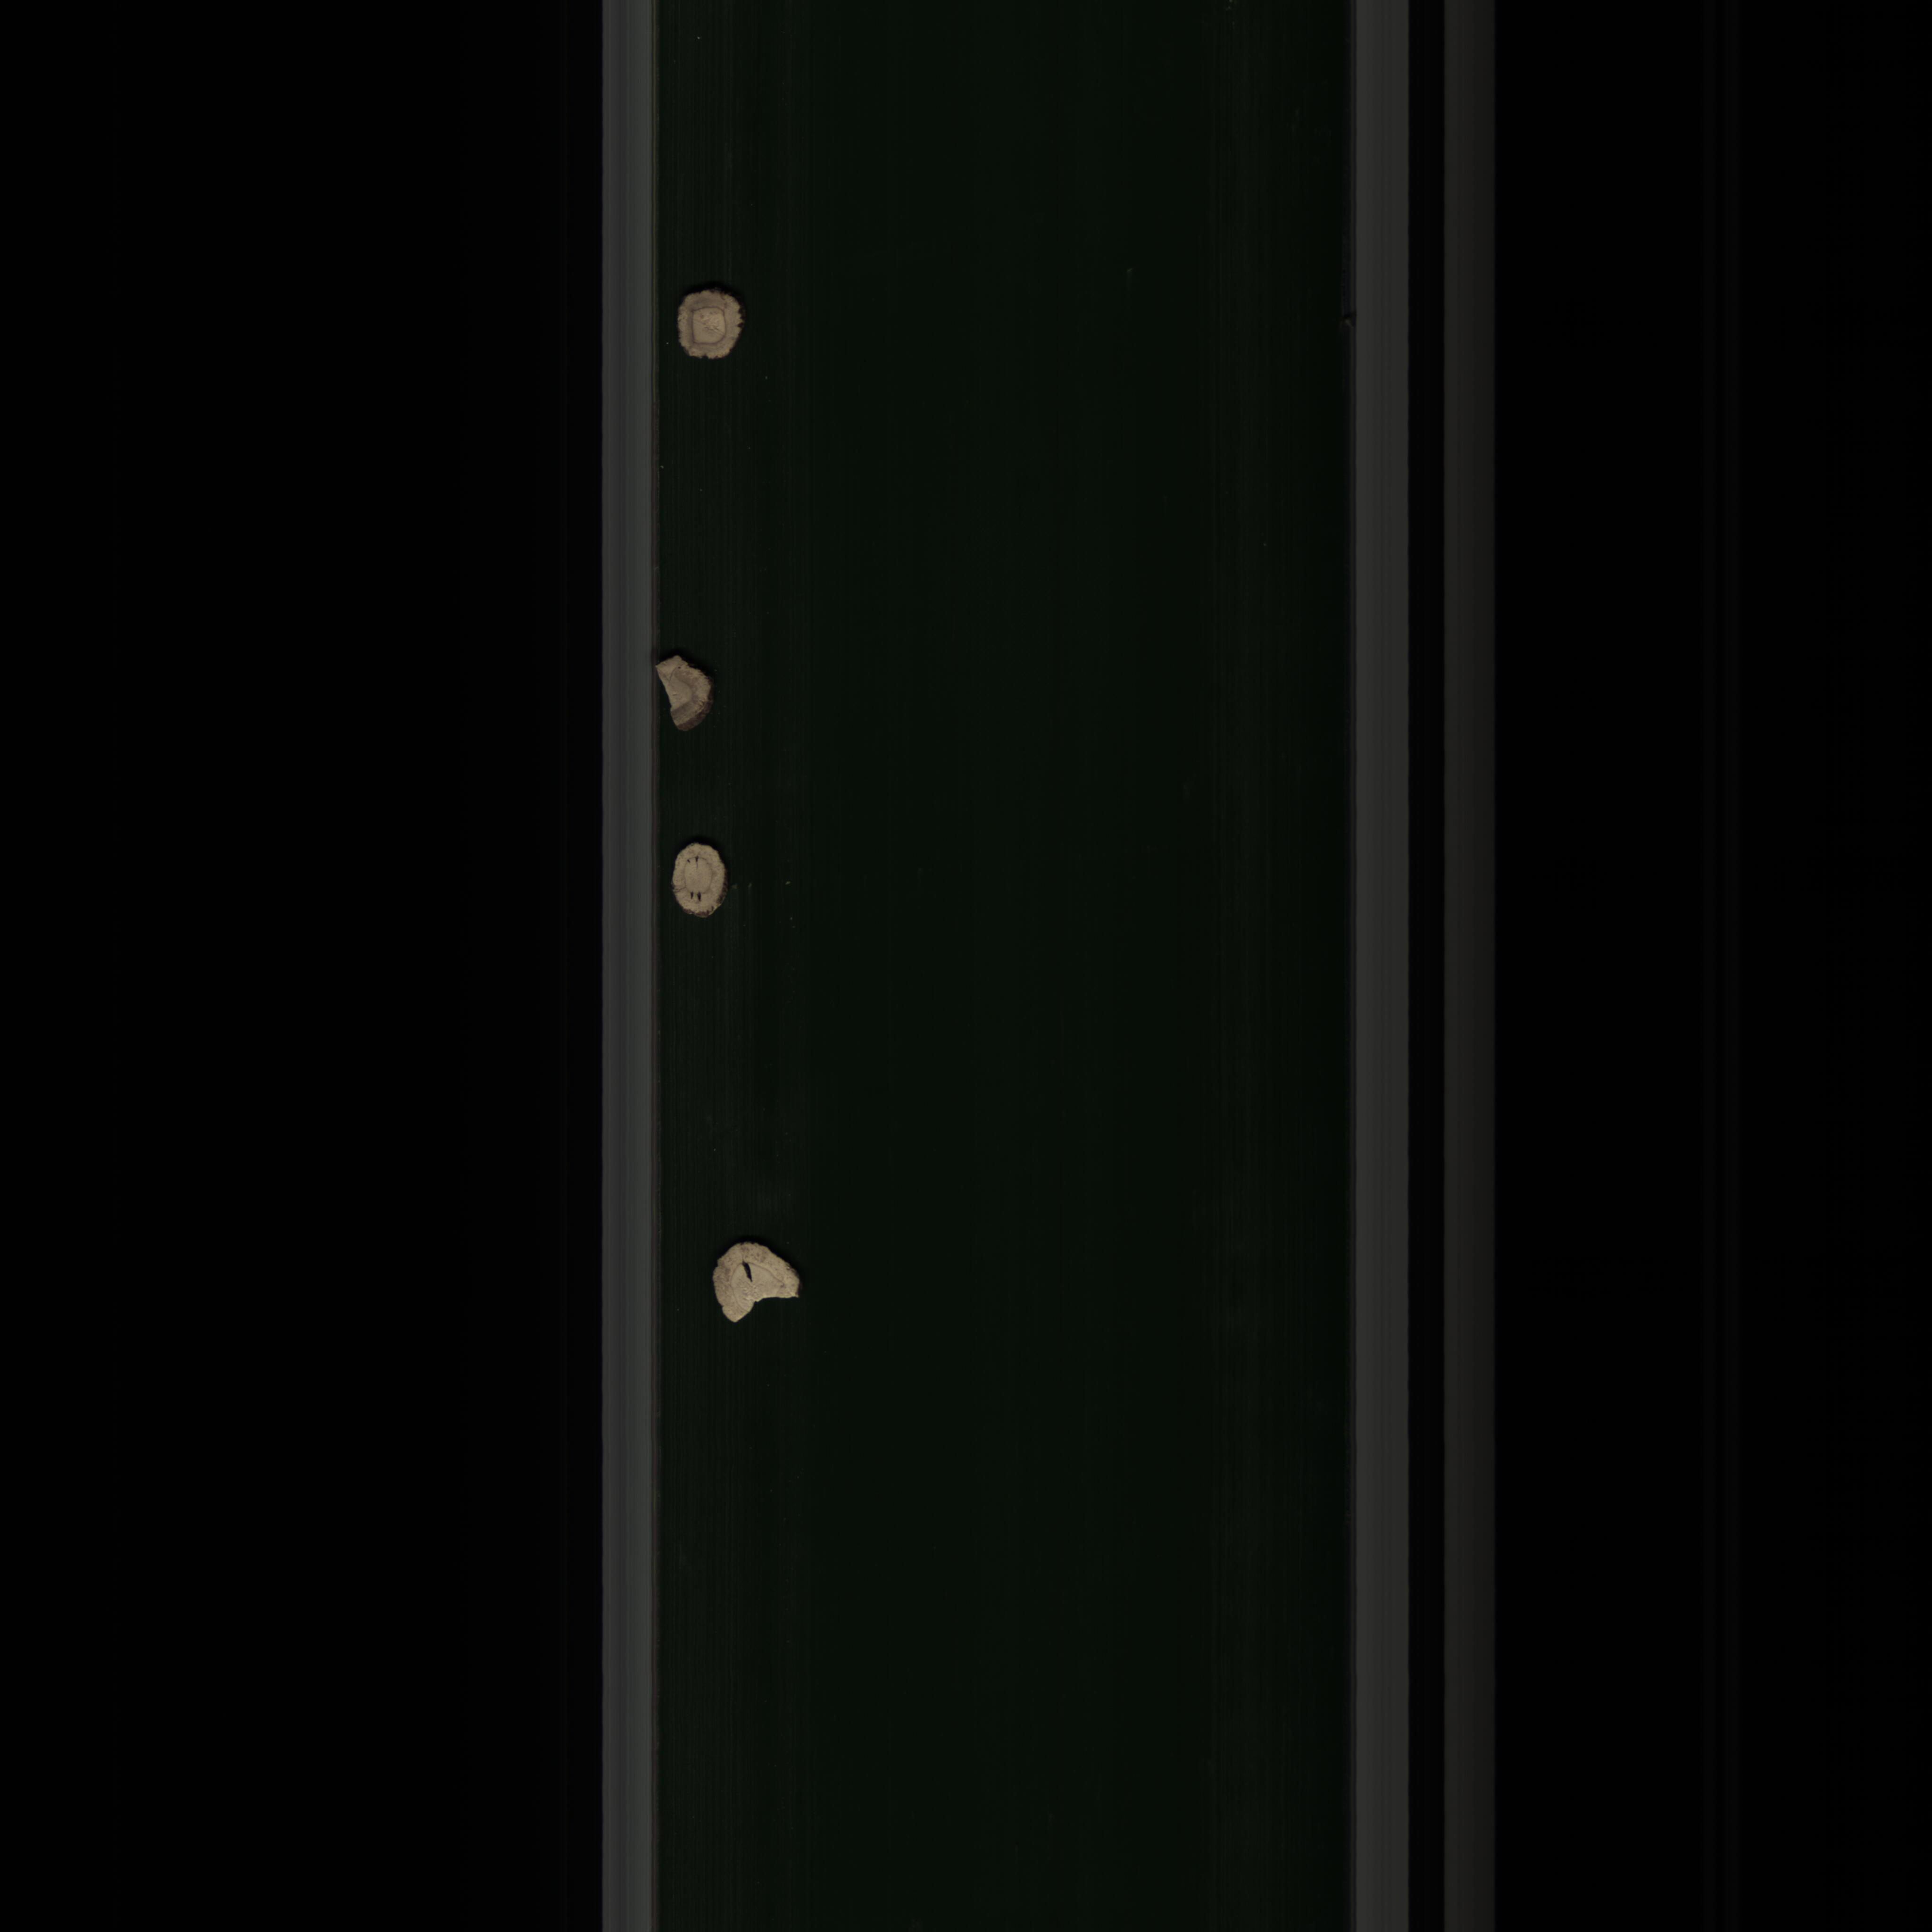debris: (653, 646, 725, 740)
hole: (699, 1242, 821, 1330), (669, 837, 732, 924)
moldy: (669, 288, 747, 366)
